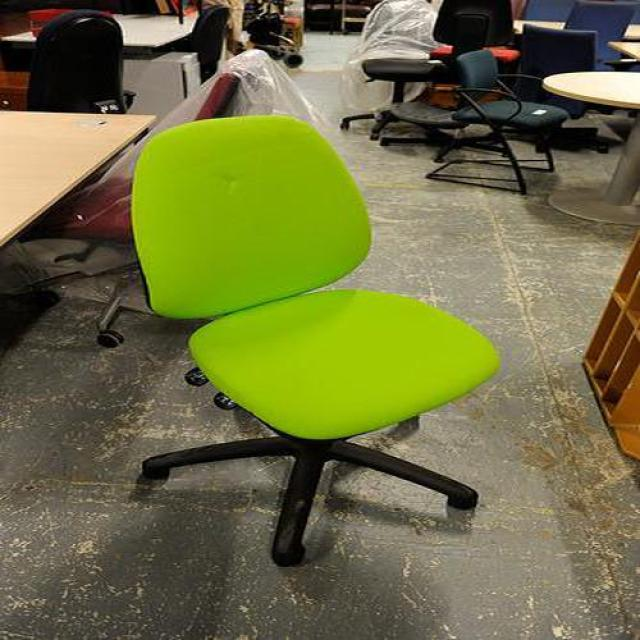swivelchair: (131, 114, 500, 570)
